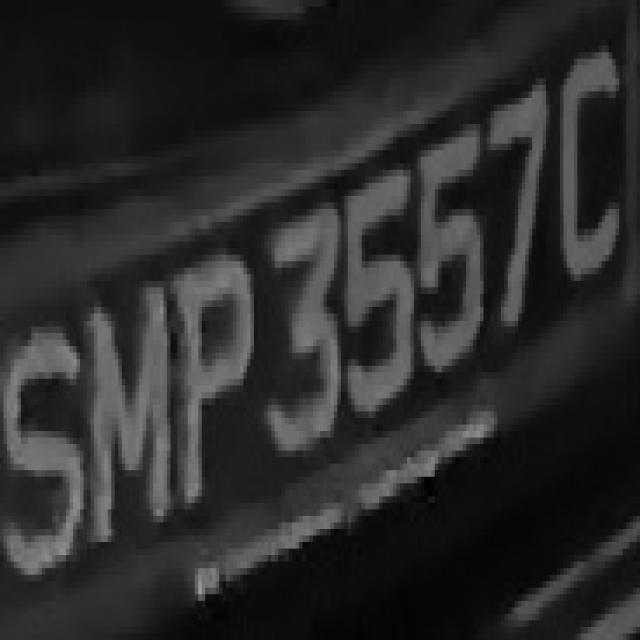3: (264, 196, 341, 470)
5: (344, 163, 428, 438), (414, 111, 490, 392)
7: (477, 78, 546, 353)
C: (557, 39, 633, 294)
M: (84, 248, 178, 536)
P: (177, 215, 261, 529)
S: (18, 281, 90, 627)
